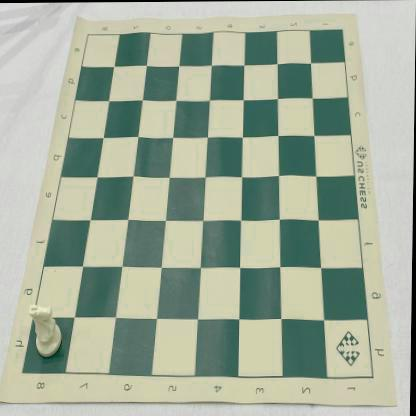white-knight: (28, 304, 64, 358)
